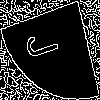J: (25, 25, 67, 63)
